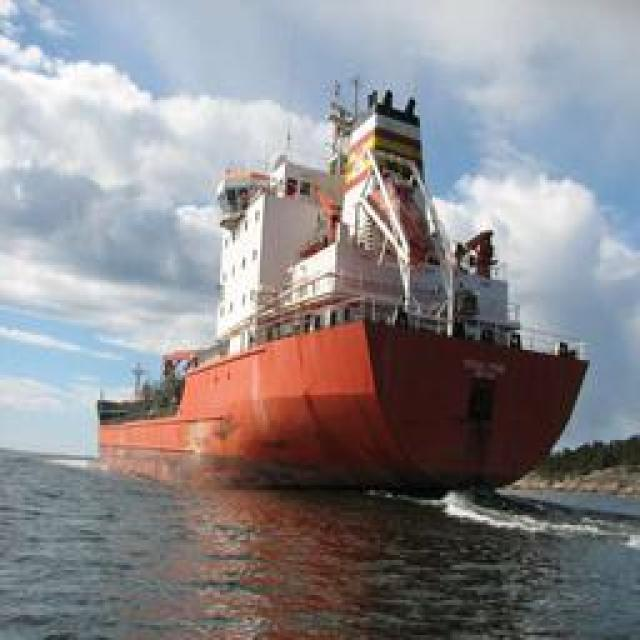ship2: (98, 93, 590, 498)
